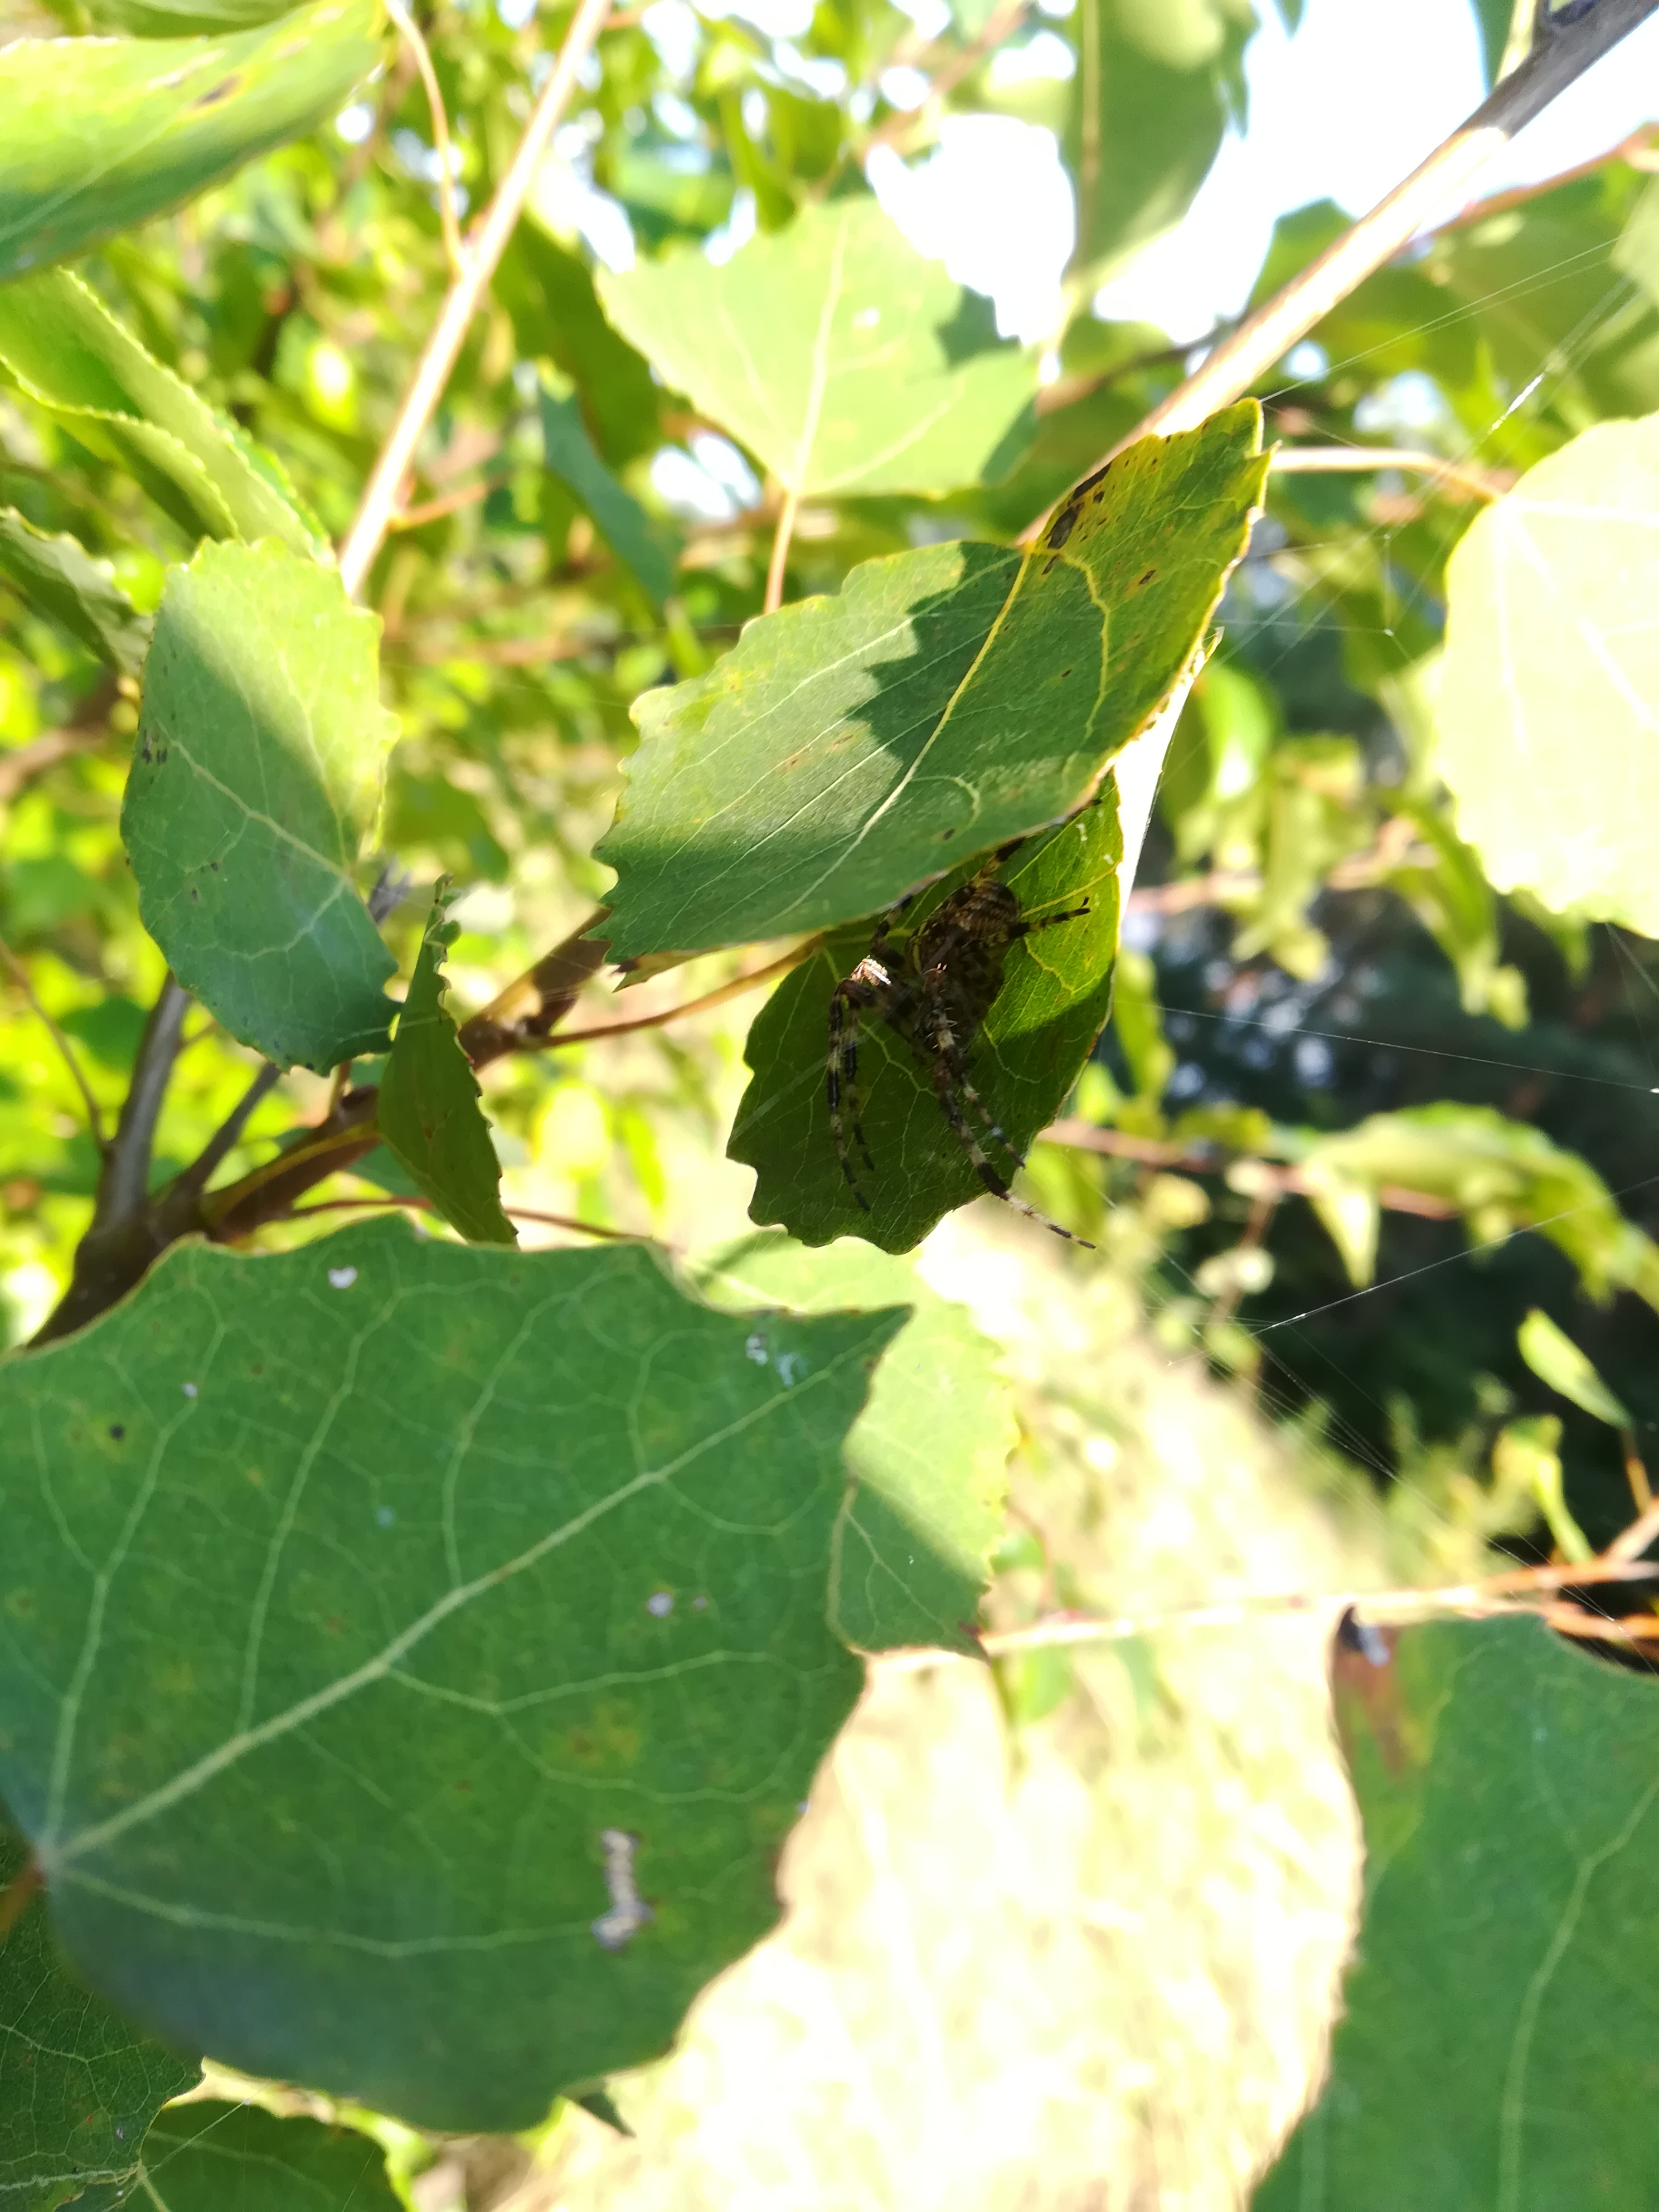spider: (728, 772, 1166, 1299)
